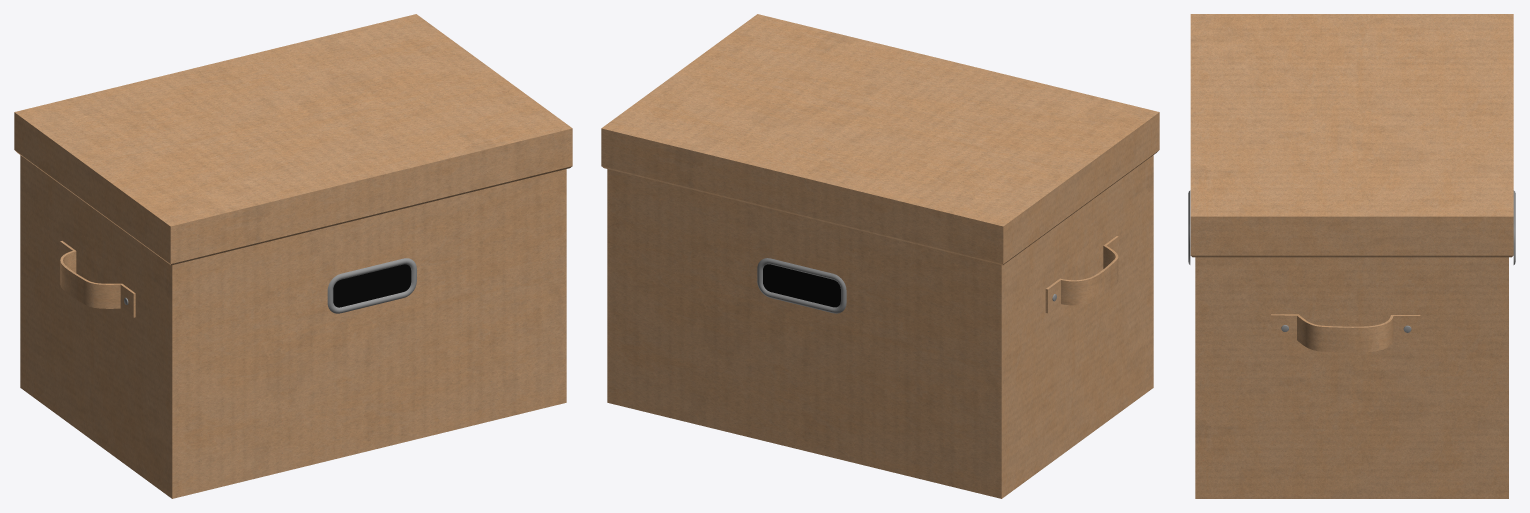
3 renders of one model, left to right at view 1: azimuth 30°, elevation 25°; view 2: azimuth 150°, elevation 25°; view 3: azimuth 270°, elevation 25°, orthographic. The views are drawn at different scales.
Visible parts, largest first — view 1: Box; view 2: Box; view 3: Box.
Boxes of the visible parts, box(x1,y1,x2,y2) form: Box: box(14, 14, 572, 498); Box: box(601, 14, 1159, 498); Box: box(1188, 14, 1515, 498).
Bounding box in the file's own units: 34.08 × 20 × 20.87.
3 materials, 1 textured.
